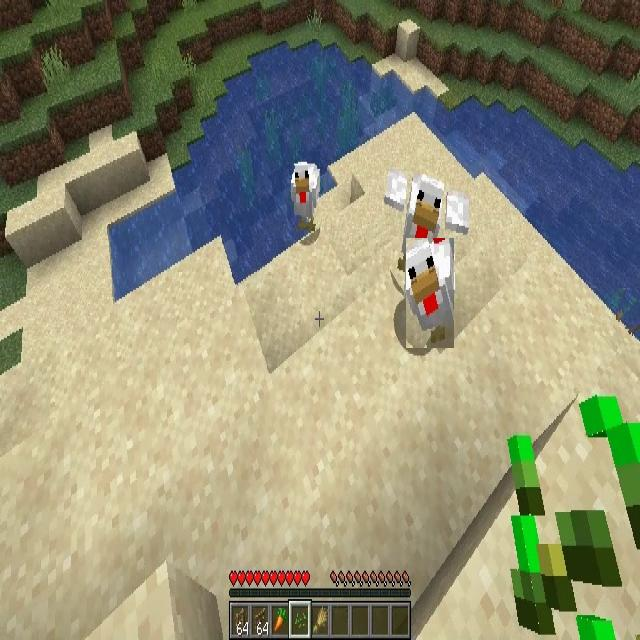duck: (384, 168, 468, 254), (406, 238, 454, 348), (291, 164, 320, 224)
